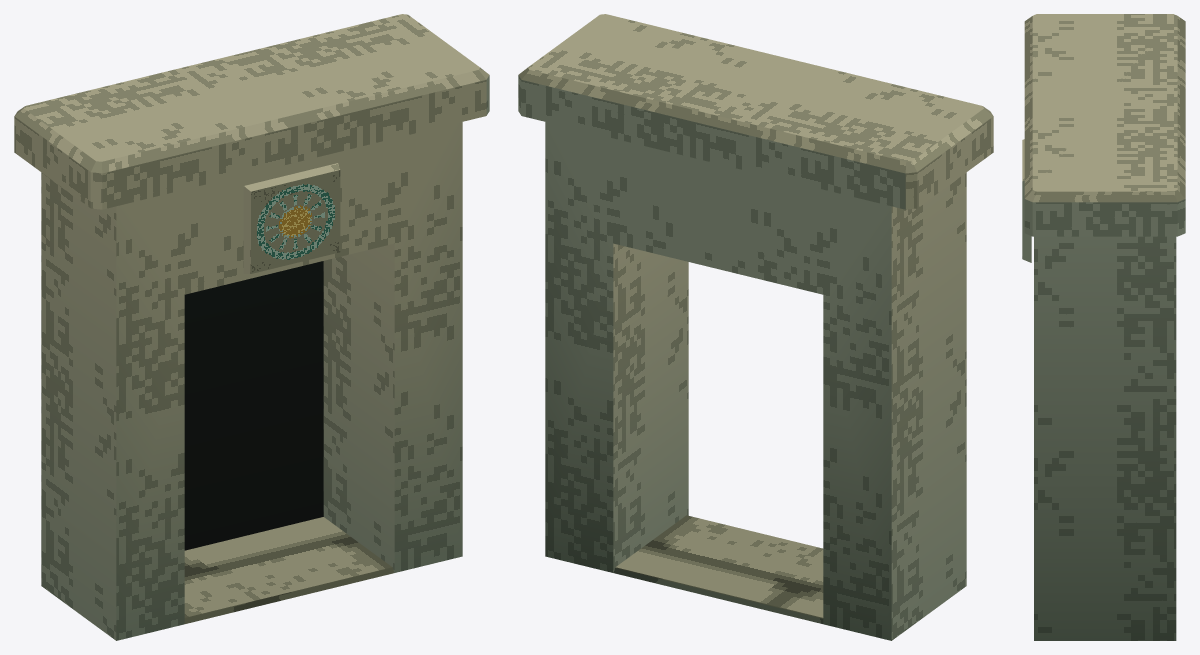
Rendered from ruin.gate.glb.
3 views of the same model, side by side, from view 1: azimuth 30°, elevation 25°; view 2: azimuth 150°, elevation 25°; view 3: azimuth 270°, elevation 25° (orthographic). The views are drawn at different scales.
Parts seen in each view (by area): view 1: kit_frame, kit_lintel, kit_shell_passage, kit_threshold; view 2: kit_frame, kit_lintel, kit_threshold; view 3: kit_frame, kit_lintel.
Part boxes in pixels (<box>): kit_frame: <box>41,122,462,640</box>; kit_lintel: <box>14,14,489,273</box>; kit_shell_passage: <box>184,261,323,550</box>; kit_threshold: <box>184,517,394,623</box>; kit_frame: <box>545,122,966,640</box>; kit_lintel: <box>518,14,993,209</box>; kit_threshold: <box>613,515,823,623</box>; kit_frame: <box>1034,236,1176,640</box>; kit_lintel: <box>1022,14,1185,262</box>.
Size of the model in its own units: 3.8 by 4.4 by 1.42.
Materials: 4 (4 with a texture image).
